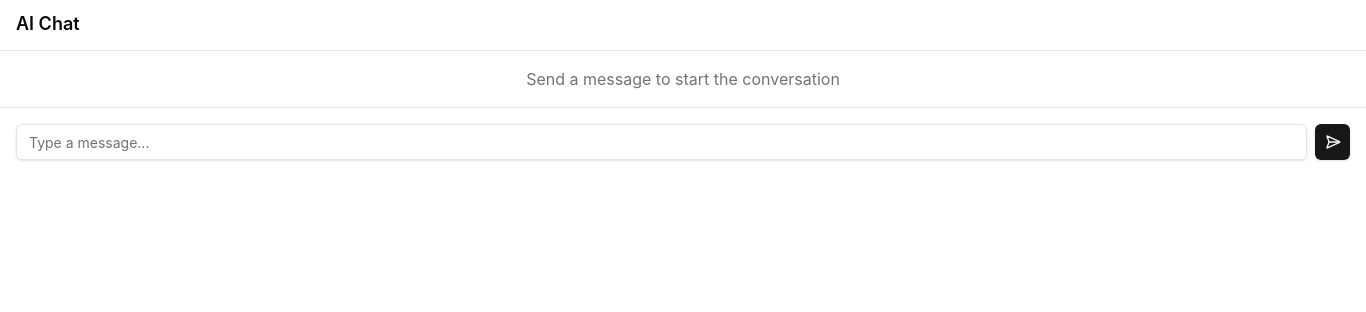
ChatPage › sends a message and receives a mock agent response
Type "Hello AI" into the field named "Message input" at x=662, y=142, box [16,124,1307,160]
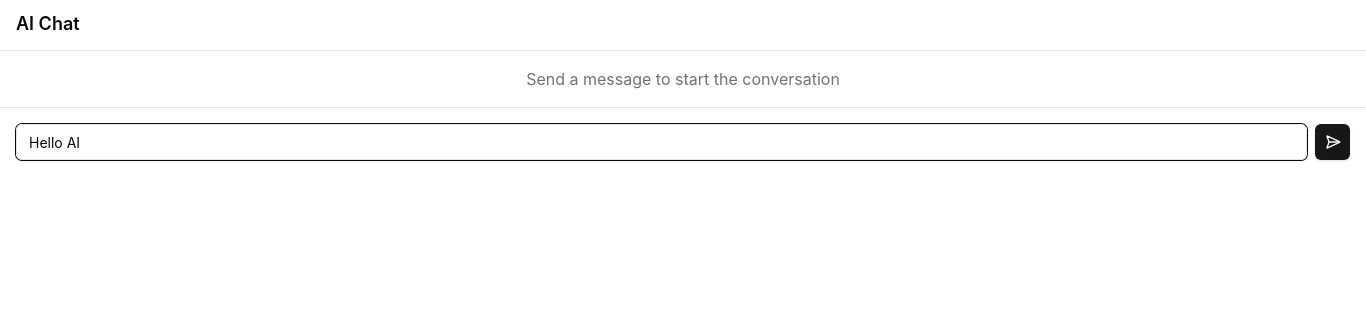
Click the button named "Send message" at x=1333, y=142, box [1315,124,1350,160]
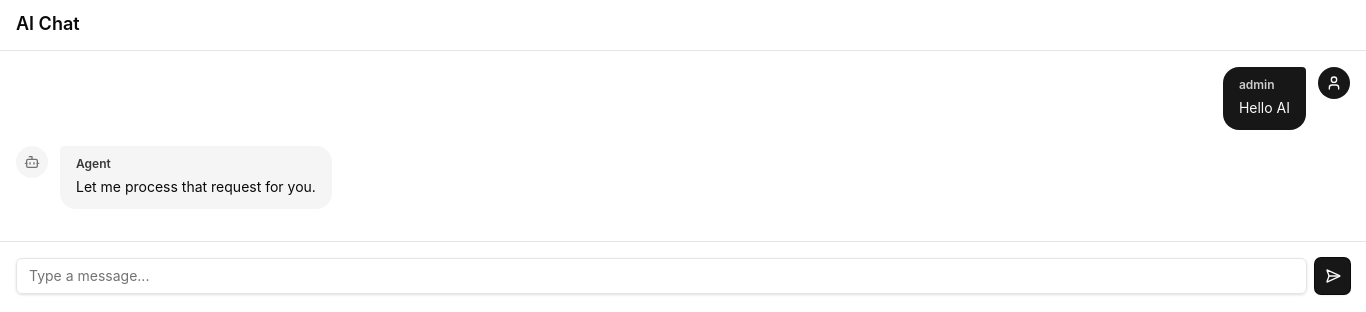
Result: the text "Hello AI" is shown at [1239,97,1290,120]
Result: the text "admin" is shown at [1239,77,1275,93]
Result: the text "Agent" is shown at [76,156,111,172]
